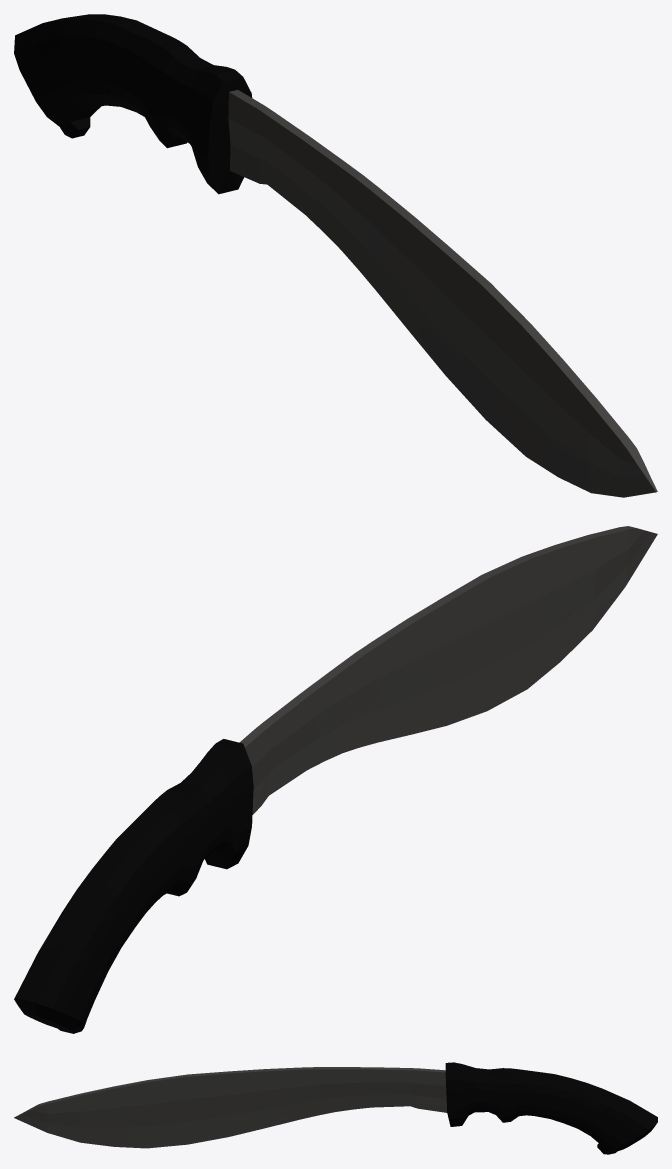
The model's file is Machete Chopper.fbx.
3 views of the same model, one above another, from view 1: azimuth 30°, elevation 25°; view 2: azimuth 150°, elevation 25°; view 3: azimuth 270°, elevation 25° (orthographic). The views are drawn at different scales.
Parts seen in each view (by area): view 1: Machete; view 2: Machete; view 3: Machete.
Boxes of the visible parts, x1=… form: Machete: x1=14, y1=14, x2=657, y2=497; Machete: x1=14, y1=526, x2=657, y2=1033; Machete: x1=14, y1=1062, x2=657, y2=1154.
Bounding box in the file's own units: 0.0227 × 0.0854 × 0.5666.
